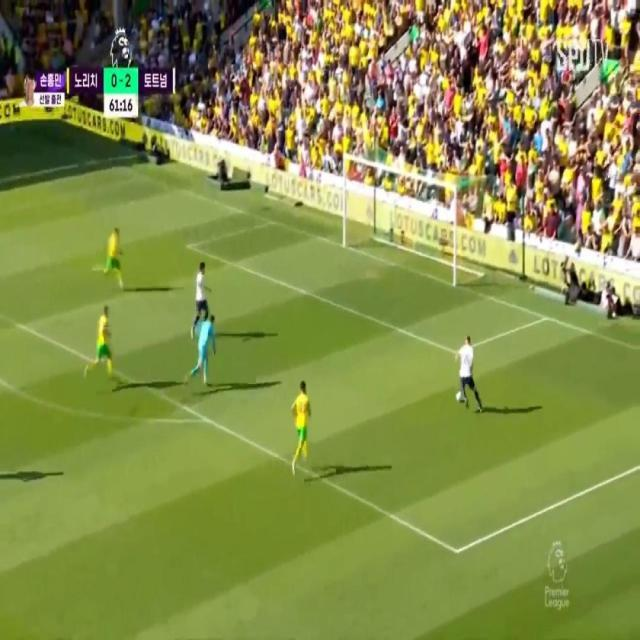ball: (453, 385, 465, 410)
goalkeeper: (179, 312, 228, 399)
player: (103, 220, 123, 291), (193, 258, 213, 328), (294, 380, 307, 470), (99, 298, 113, 380), (461, 338, 475, 414)
